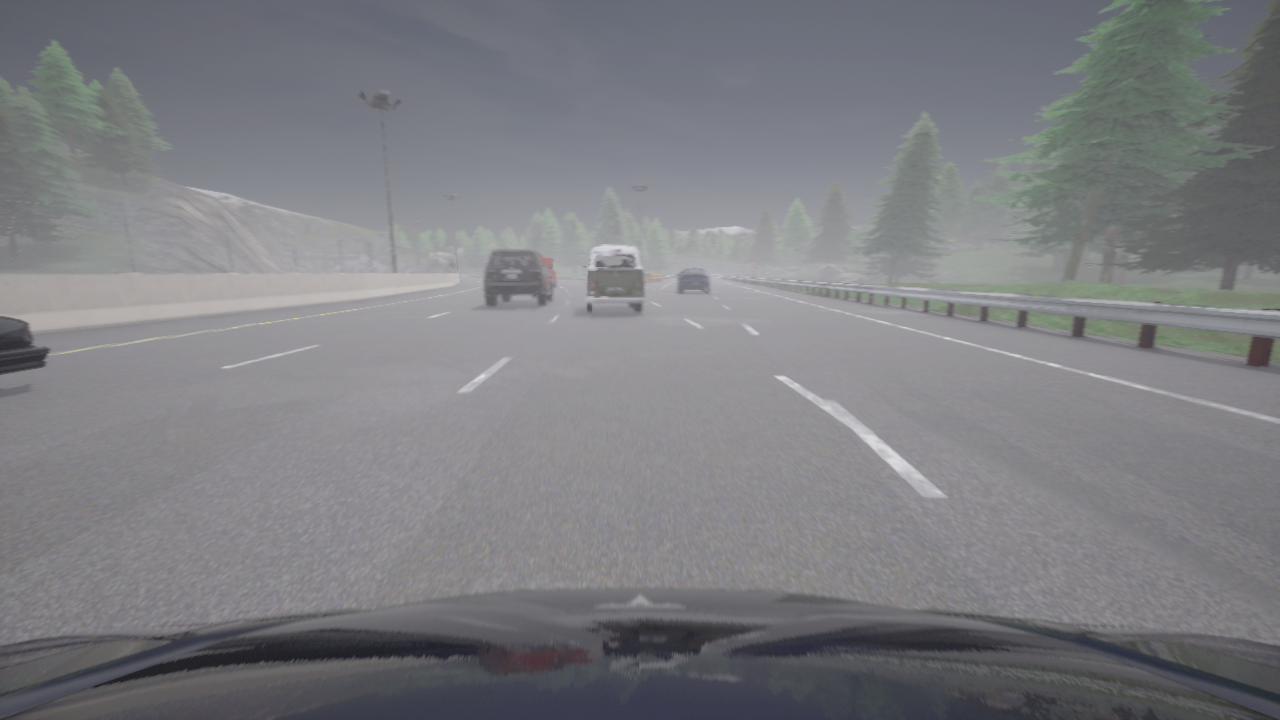cyclist: (0, 588, 1279, 719), (582, 245, 644, 312), (484, 250, 552, 306), (677, 269, 710, 293), (543, 258, 555, 287)
